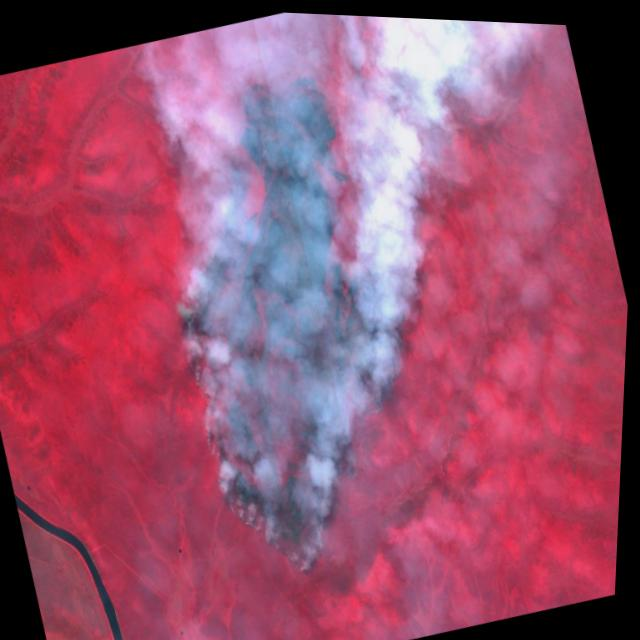fire: (139, 187, 468, 609)
